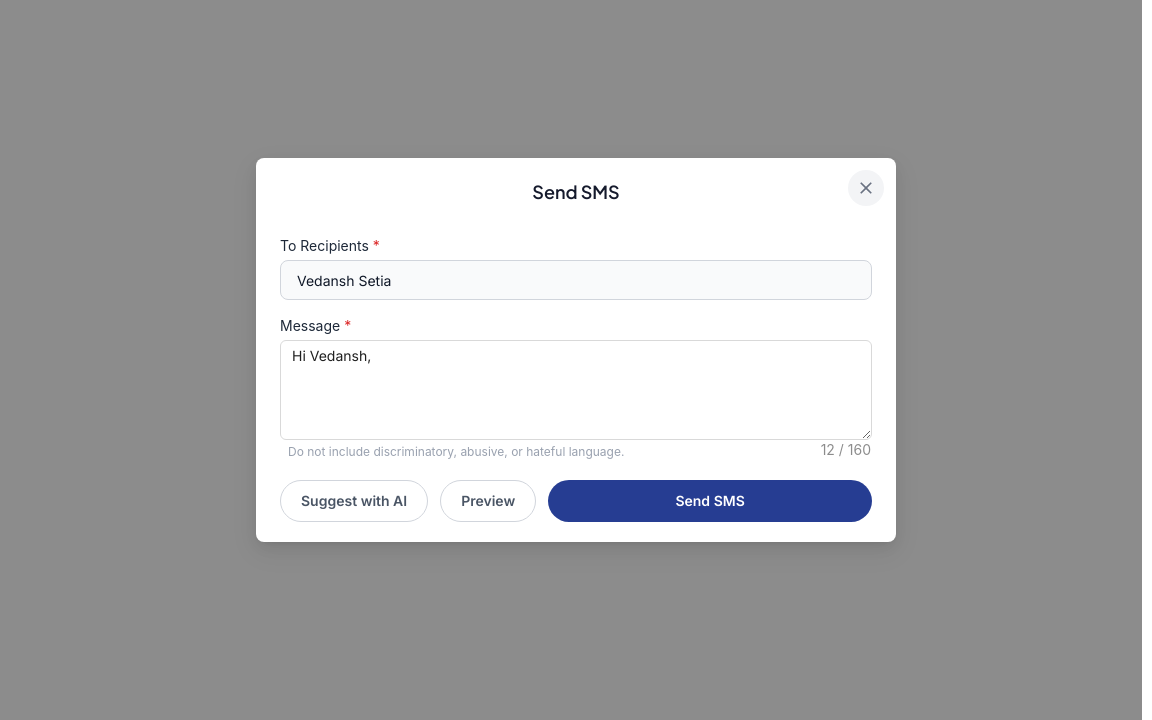
Test: Send SMS to one candidate › keeps the form open and says why when the one candidate was not sent to
What coordinates should you click on to do the following:
click the button "Send SMS"
I would click on:
 (710, 501)
Its box is [548,480,872,522].
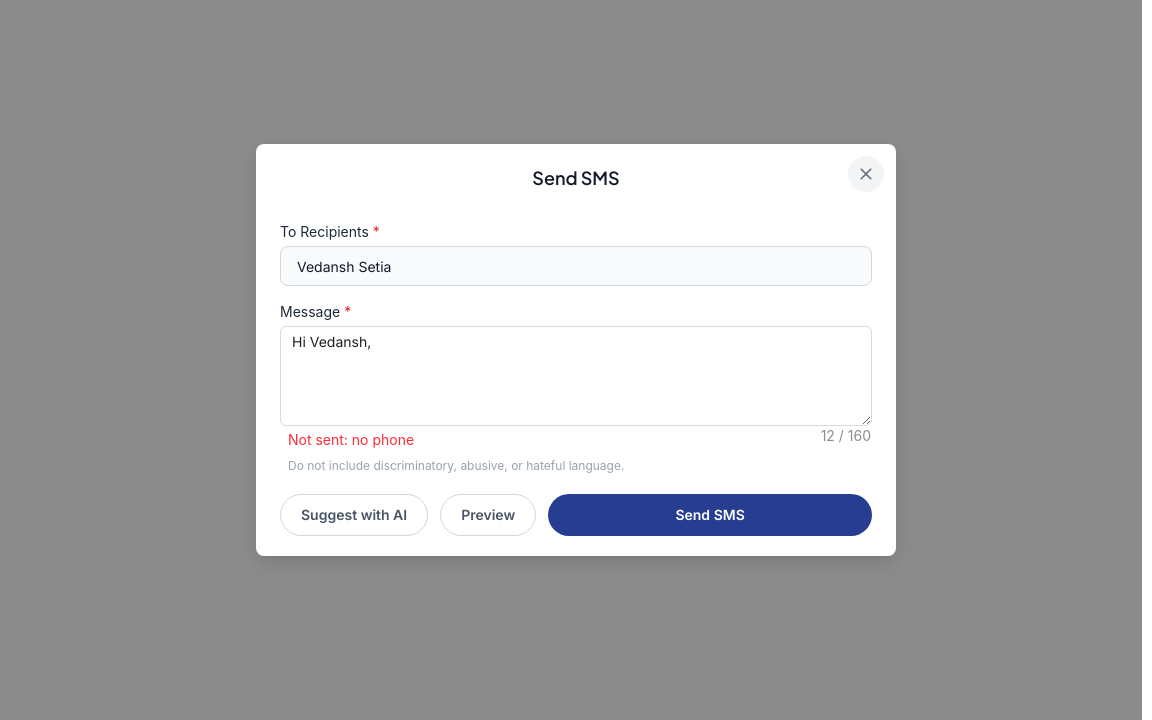
Expected: the text "Not sent: no phone" is shown, [288,431,414,448]
